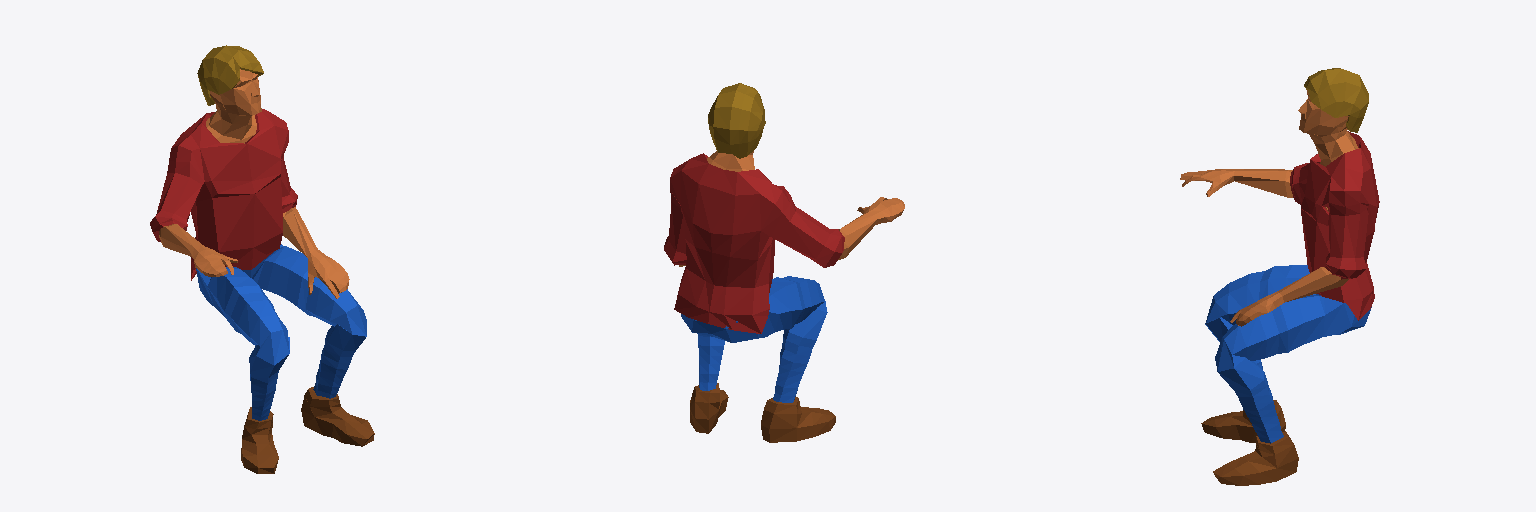
File: meV2_room.obj
3 views of the same model, side by side, from view 1: azimuth 30°, elevation 25°; view 2: azimuth 150°, elevation 25°; view 3: azimuth 270°, elevation 25° (orthographic).
Parts seen in each view (by area): view 1: male_Circle.008, male.001_Circle.001, male.003_Circle.003, male.004_Circle.004; view 2: male.001_Circle.001, male_Circle.008, male.003_Circle.003, male.004_Circle.004; view 3: male_Circle.008, male.001_Circle.001, male.003_Circle.003, male.004_Circle.004.
Boxes of the visible parts, <box> form: male_Circle.008: <box>159,69,366,420</box>; male.001_Circle.001: <box>150,109,297,280</box>; male.003_Circle.003: <box>241,387,374,473</box>; male.004_Circle.004: <box>197,45,263,105</box>; male.001_Circle.001: <box>664,153,844,333</box>; male_Circle.008: <box>679,151,904,402</box>; male.003_Circle.003: <box>690,383,835,442</box>; male.004_Circle.004: <box>708,83,765,158</box>; male_Circle.008: <box>1180,90,1371,443</box>; male.001_Circle.001: <box>1290,131,1379,320</box>; male.003_Circle.003: <box>1201,400,1298,485</box>; male.004_Circle.004: <box>1304,68,1368,132</box>.
Size of the model in its own units: 1.42 by 2.71 by 1.3.